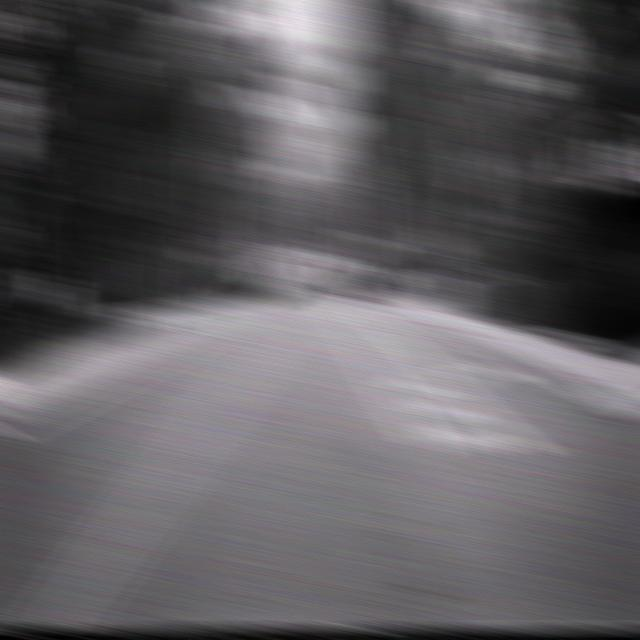stop_sign: (420, 230, 454, 258)
